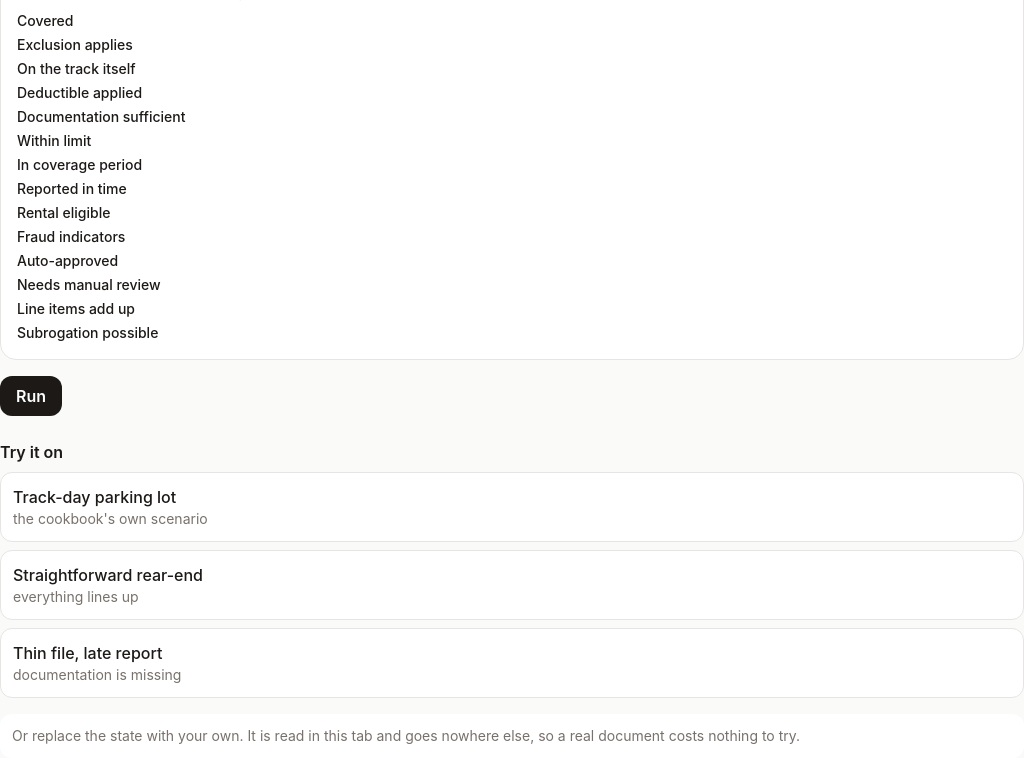
CookbookCard — Self-consistency: nouls › reports a failed decision rather than showing nothing
The width and height of the screenshot is (1024, 758).
(page scrolled)
Click the button "Run".
click(31, 396)  # box left=0, top=376, right=62, bottom=416
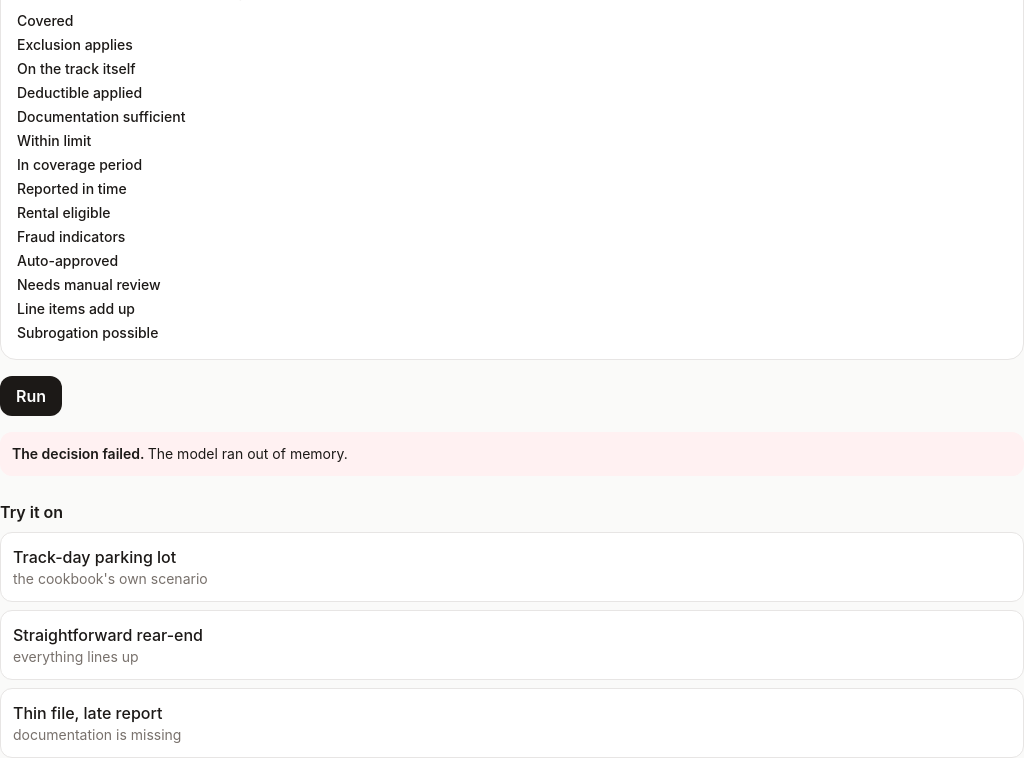
Now the text "The decision failed. The model ran out of memory." is shown, box left=0, top=432, right=1023, bottom=476
